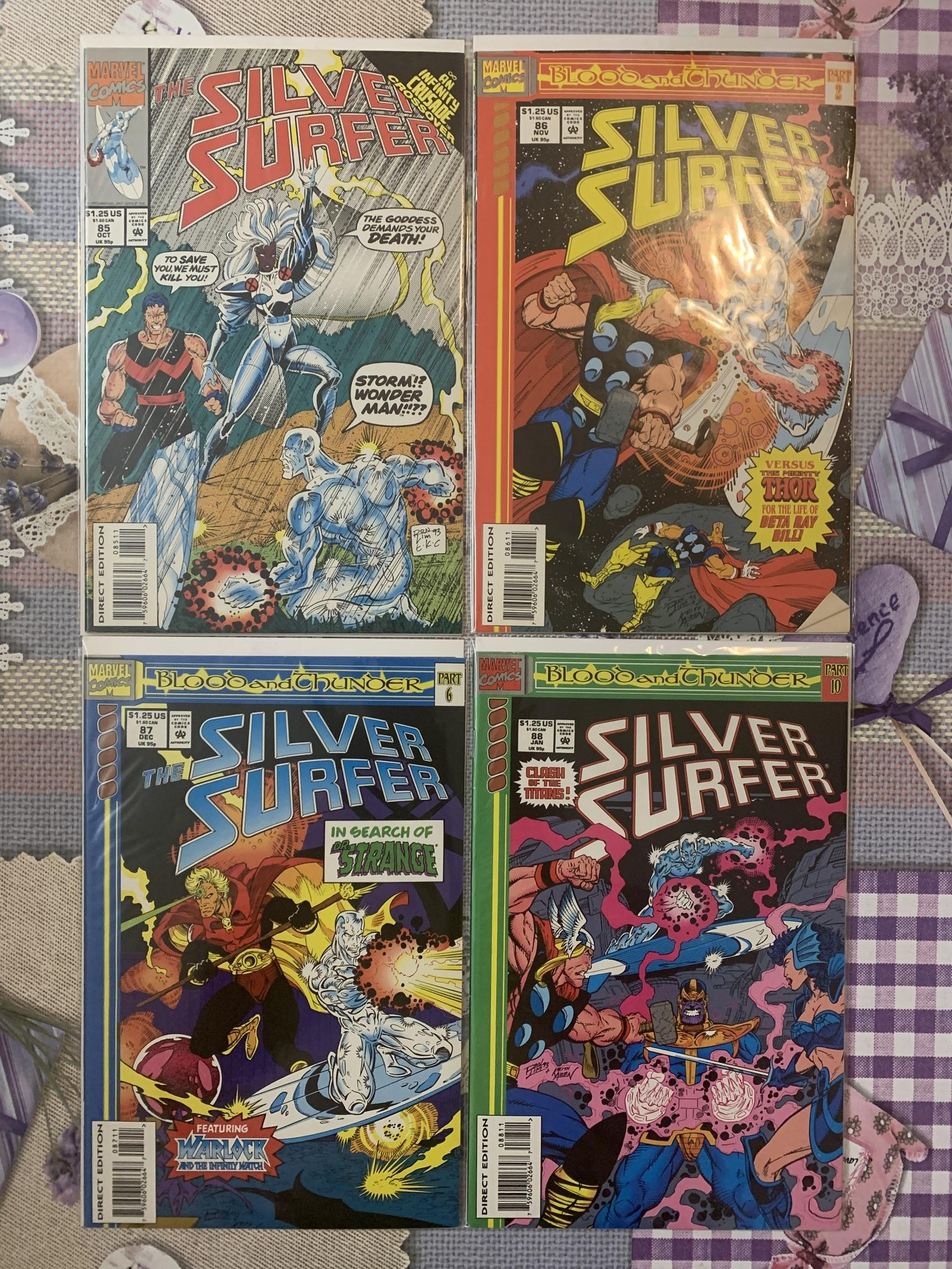comic: (77, 37, 466, 635), (466, 638, 852, 1232), (472, 37, 855, 635), (82, 638, 465, 1229)
